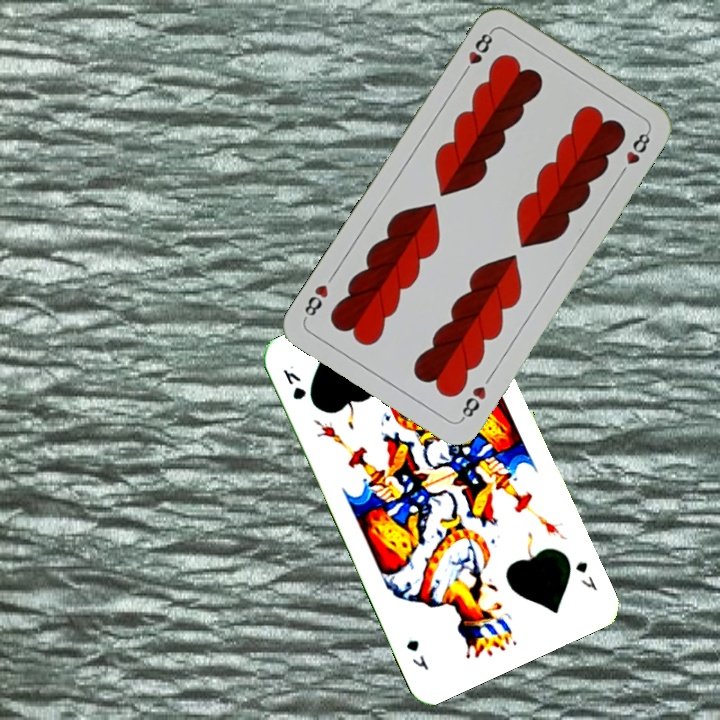GK: (279, 365, 309, 403), (571, 557, 600, 594)
H8: (458, 26, 496, 79), (456, 382, 489, 423)
